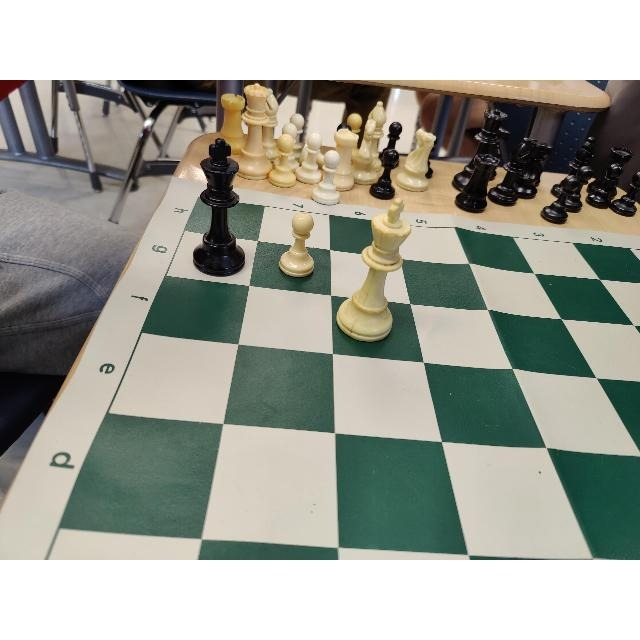black-king: (194, 136, 246, 275)
white-king: (334, 195, 411, 343)
white-pawn: (277, 212, 316, 280)
